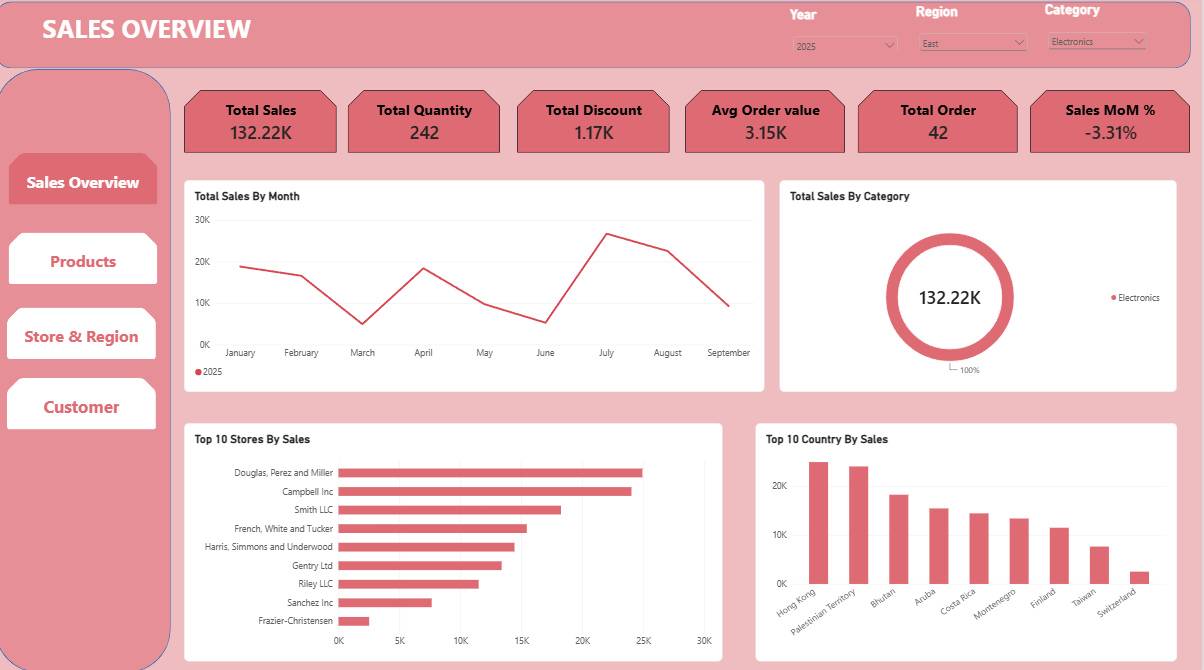

The page's visual inventory and layout, read from the dashboard file:
{"tool":"powerbi","page":{"name":"Sales Overview","canvas":[1920,1080],"ordinal":0},"visuals":[{"type":"lineChart","title":"Total Sales By Month","fields":{"Category":["sales_warehouse dim_date.month_name"],"Series":["sales_warehouse dim_date.year"],"Y":["calculation table.Total Sales"]},"box":[300.6,295.9,923.5,337.2],"z":5000},{"type":"donutChart","title":"Total Sales By Category","fields":{"Category":["sales_warehouse dim_product.category"],"Y":["calculation table.Total Sales"]},"box":[1248.6,294.7,631.9,337.2],"z":6000},{"type":"barChart","title":"Top 10 Stores By Sales","fields":{"Category":["sales_warehouse dim_store.store_name"],"Y":["calculation table.Total Sales"]},"box":[300.6,682.4,856.5,379.4],"z":7000},{"type":"shape","box":[0,12.2,1901.8,106.3],"z":8000},{"type":"slicer","title":"Year","fields":{"Values":["sales_warehouse dim_date.year","sales_warehouse dim_date.month"]},"box":[1263.8,18.2,176.2,69.9],"z":9000},{"type":"slicer","title":"Region","fields":{"Values":["sales_warehouse dim_store.region"]},"box":[1464.3,15.2,182.3,75.9],"z":10000},{"type":"slicer","title":"Category","fields":{"Values":["sales_warehouse dim_product.category"]},"box":[1670.9,12.2,167.1,75.9],"z":11000},{"type":"actionButton","box":[0,12.2,483,85.1],"z":12000},{"type":"shape","box":[0,118.5,279.5,960],"z":13000},{"type":"actionButton","box":[21.3,252.2,237,82],"z":14000},{"type":"actionButton","box":[21.3,379.7,237,82],"z":15000},{"type":"actionButton","box":[18.2,498.2,237,82],"z":16000},{"type":"actionButton","box":[18.2,610.6,237,82],"z":17000},{"type":"columnChart","title":"Top 10 Country By Sales","fields":{"Category":["sales_warehouse dim_store.country"],"Y":["calculation table.Total Sales"]},"box":[1209.7,682.4,670.4,379.4],"z":18000},{"type":"cardVisual","fields":{"Data":["calculation table.Total Sales"]},"box":[300.8,151.9,243,100.3],"z":19000},{"type":"textbox","box":[1546.3,173.2,230.9,51.6],"z":19001},{"type":"cardVisual","fields":{"Data":["calculation table.Total Quantity"]},"box":[560.7,152.7,243,100.3],"z":19002},{"type":"cardVisual","fields":{"Data":["calculation table.Total Discount"]},"box":[830.3,152.7,243,100.3],"z":19003},{"type":"cardVisual","fields":{"Data":["calculation table.Avg Order value"]},"box":[1097.5,152.7,255.2,100.3],"z":19004},{"type":"cardVisual","fields":{"Data":["calculation table.Total Order"]},"box":[1371.9,152.7,255.2,100.3],"z":19005},{"type":"cardVisual","fields":{"Data":["calculation table.Sales MoM %"]},"box":[1646.3,152.7,255.2,100.3],"z":19006}]}

Visuals, with their boxes in screenshot pixels (x1, y1, x2, y2), scaled from the page's 1920x1080 canvas onto the 1204x670 screenshot:
"Total Sales By Month" lineChart: 189, 184, 768, 393
"Total Sales By Category" donutChart: 783, 183, 1179, 392
"Top 10 Stores By Sales" barChart: 189, 423, 726, 659
shape: 0, 8, 1193, 74
"Year" slicer: 793, 11, 903, 55
"Region" slicer: 918, 9, 1033, 57
"Category" slicer: 1048, 8, 1153, 55
actionButton: 0, 8, 303, 60
shape: 0, 74, 175, 669
actionButton: 13, 156, 162, 207
actionButton: 13, 236, 162, 286
actionButton: 11, 309, 160, 360
actionButton: 11, 379, 160, 430
"Top 10 Country By Sales" columnChart: 759, 423, 1179, 659
cardVisual - calculation table.Total Sales: 189, 94, 341, 156
textbox: 970, 107, 1114, 139
cardVisual - calculation table.Total Quantity: 352, 95, 504, 157
cardVisual - calculation table.Total Discount: 521, 95, 673, 157
cardVisual - calculation table.Avg Order value: 688, 95, 848, 157
cardVisual - calculation table.Total Order: 860, 95, 1020, 157
cardVisual - calculation table.Sales MoM %: 1032, 95, 1192, 157
